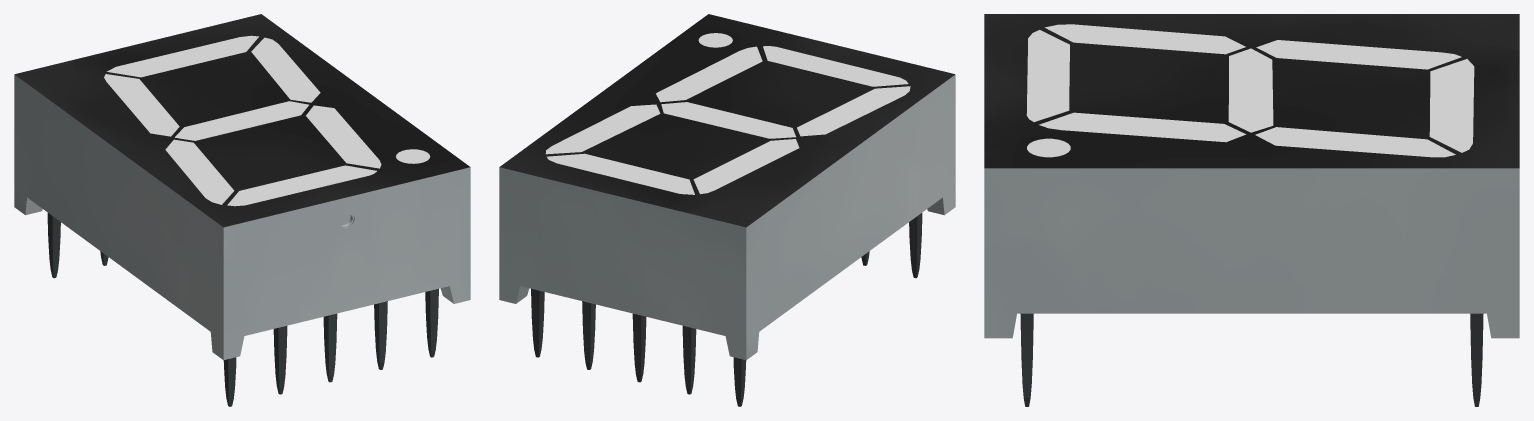
File: Digital7seg.fbx
3 renders of one model, left to right at view 1: azimuth 30°, elevation 25°; view 2: azimuth 150°, elevation 25°; view 3: azimuth 270°, elevation 25°, orthographic. The views are drawn at different scales.
Visible parts, largest first — view 1: m_base, m_sa, m_sd, m_sg, m_sc, m_sf, m_sb, m_se, m_shDP; view 2: m_base, m_sa, m_sd, m_sg, m_sc, m_sb, m_sf, m_se, m_shDP; view 3: m_base, m_sa, m_sd, m_sc, m_sf, m_sb, m_sg, m_se, m_shDP.
Part boxes in pixels (<box>): m_base: <box>14,14,470,406</box>; m_sa: <box>107,35,258,77</box>; m_sd: <box>227,165,376,206</box>; m_sg: <box>175,101,308,140</box>; m_sc: <box>306,105,381,168</box>; m_sf: <box>104,74,179,136</box>; m_sb: <box>251,37,320,102</box>; m_se: <box>165,139,234,204</box>; m_shDP: <box>396,149,430,163</box>; m_base: <box>499,14,955,406</box>; m_sa: <box>547,153,694,194</box>; m_sd: <box>763,46,908,86</box>; m_sg: <box>661,102,795,138</box>; m_sc: <box>656,46,762,102</box>; m_sb: <box>545,104,660,154</box>; m_sf: <box>693,139,799,194</box>; m_se: <box>797,86,910,136</box>; m_shDP: <box>698,33,732,47</box>; m_base: <box>984,14,1519,406</box>; m_sa: <box>1429,59,1474,152</box>; m_sd: <box>1026,30,1069,121</box>; m_sc: <box>1039,112,1245,142</box>; m_sf: <box>1256,40,1461,69</box>; m_sb: <box>1255,127,1455,157</box>; m_sg: <box>1228,48,1273,132</box>; m_se: <box>1044,24,1245,54</box>; m_shDP: <box>1027,138,1070,157</box>.
Bounding box in the file's own units: 136 × 104 × 200.
